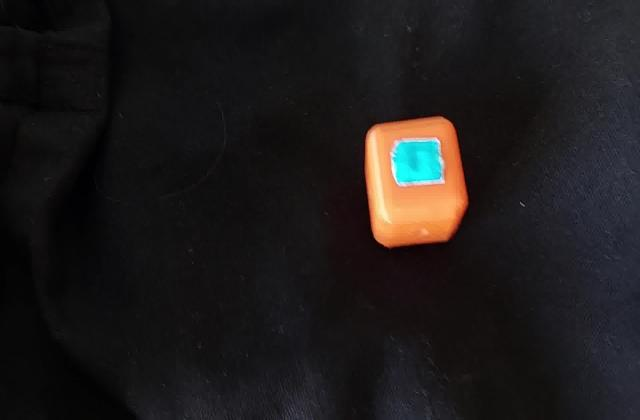blue: (400, 148, 436, 174)
sticker: (358, 112, 473, 255)
